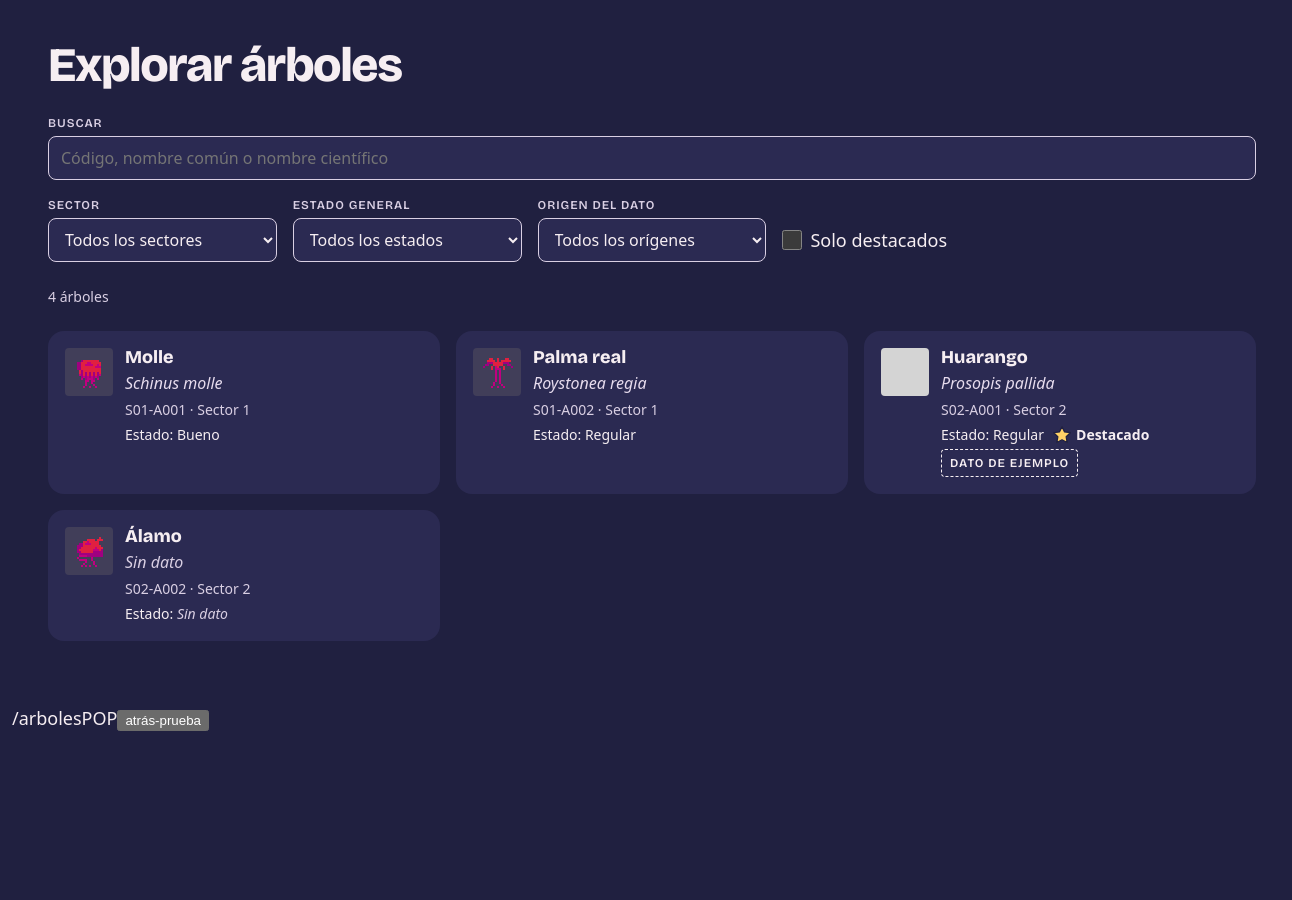
it: VistaExplorar › el contador dice «N árboles» con plural correcto y avisa con aria-live polite
Expected: the list is shown, [48,331,1256,641]
Expected: the text with class "explorar__contador" reads "4 árboles", [48,287,109,306]
Step 1. Type "molle" into the search field → (652, 158), box [48,136,1256,180]
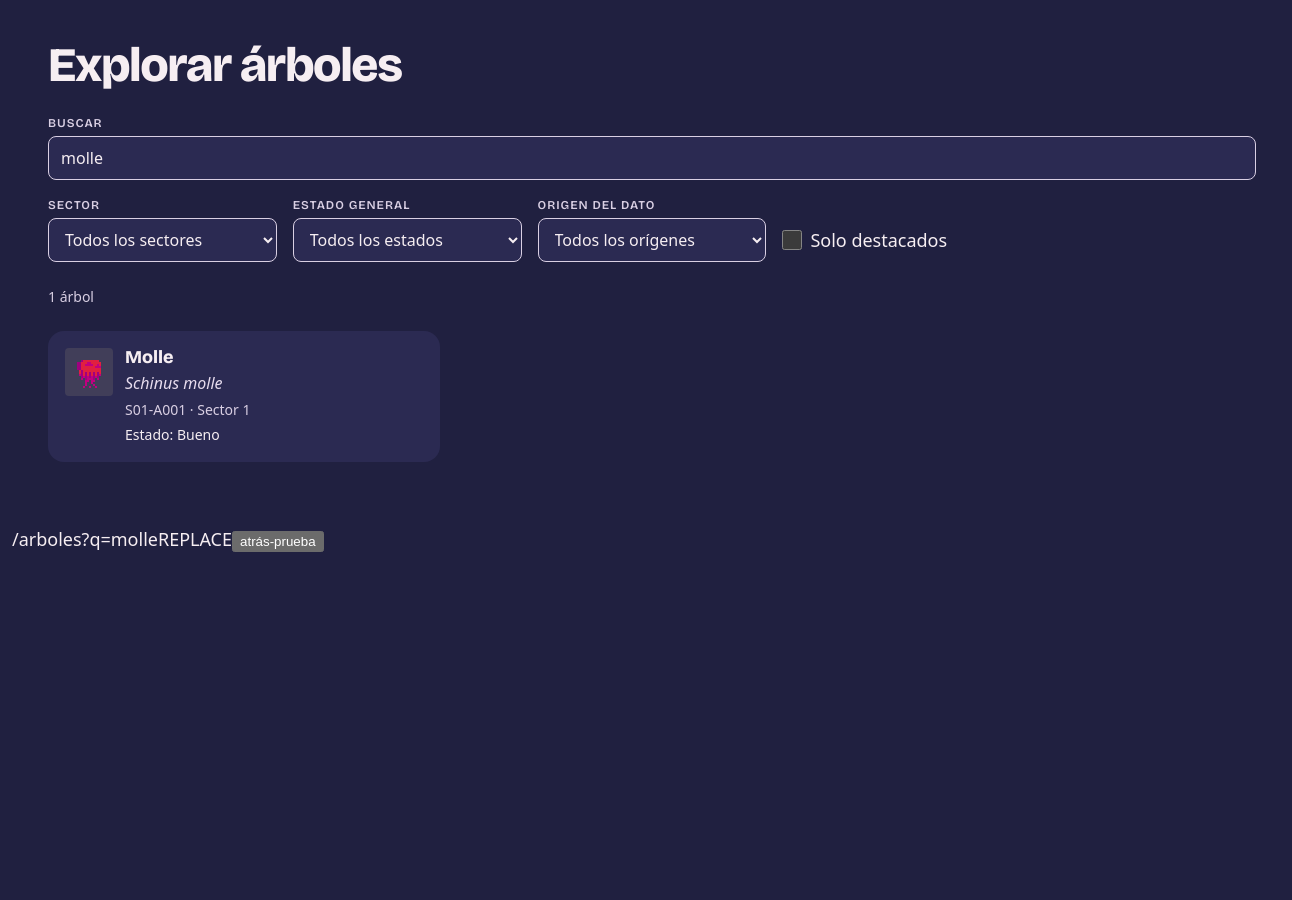
Expected: the element with class "explorar__contador" does not show "árboles"
Expected: the text with class "explorar__contador" reads "1 árbol", [48,287,94,306]
